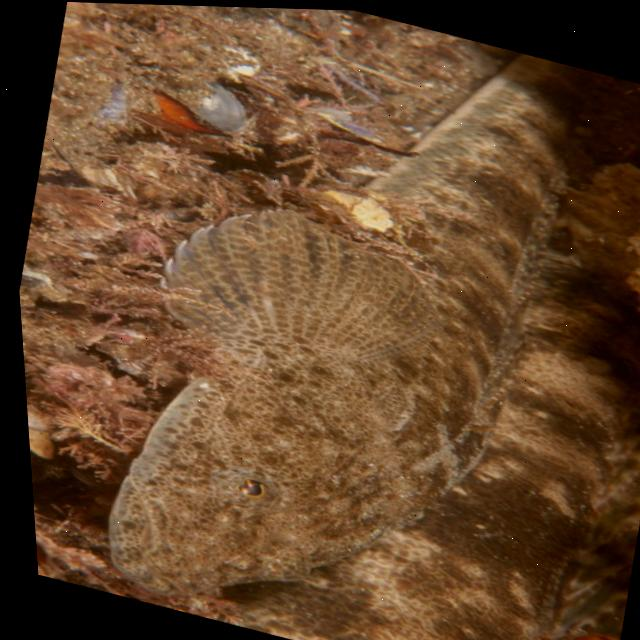Flathead: (40, 1, 640, 640)
